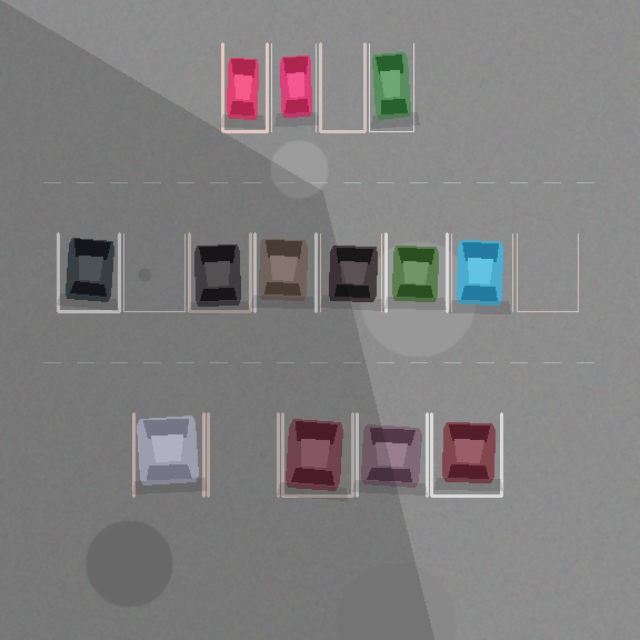space-empty: (208, 413, 278, 496), (123, 233, 184, 311), (517, 233, 578, 311), (320, 43, 364, 131)
space-occupied: (133, 413, 203, 496), (282, 413, 352, 496), (357, 413, 427, 496), (431, 413, 501, 496), (254, 233, 316, 311), (58, 233, 119, 311), (189, 233, 250, 311), (320, 233, 381, 311), (386, 233, 447, 311), (451, 233, 512, 311), (222, 43, 267, 131), (271, 43, 316, 131), (369, 43, 413, 131)
